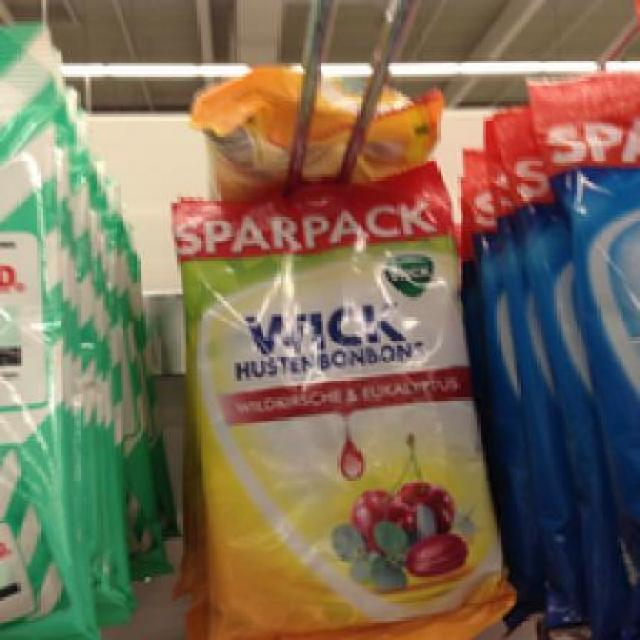Candy: (177, 180, 480, 623), (488, 71, 638, 600), (0, 28, 129, 638)
